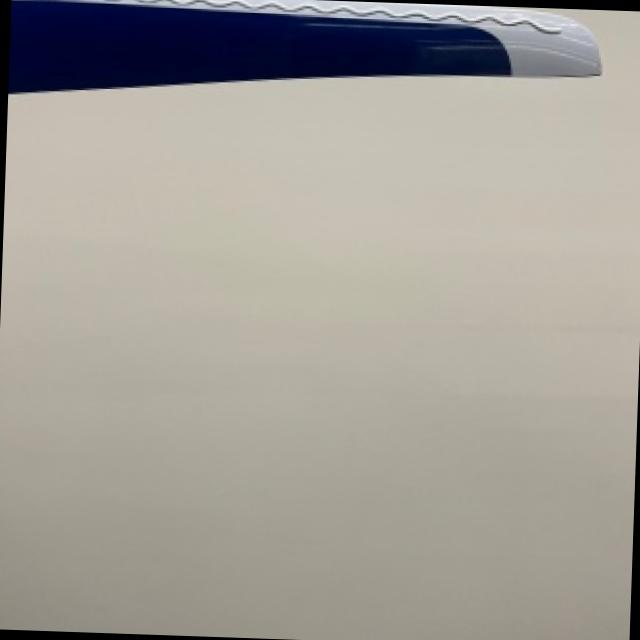healthy: (8, 0, 596, 89)
